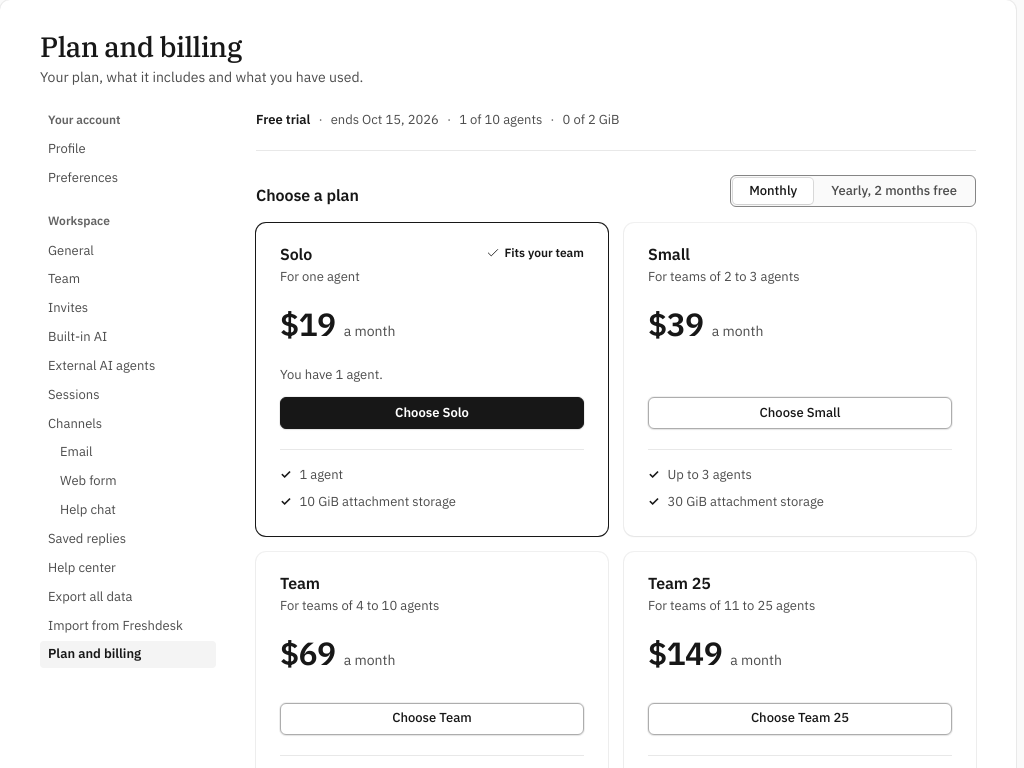
it: a checkout the payment provider refuses shows its reason and what to do, not the generic failure
The image size is (1024, 768).
Click the button with aria-label "team, $69 per month": click(432, 719) [280,703,584,735]
(page scrolled)
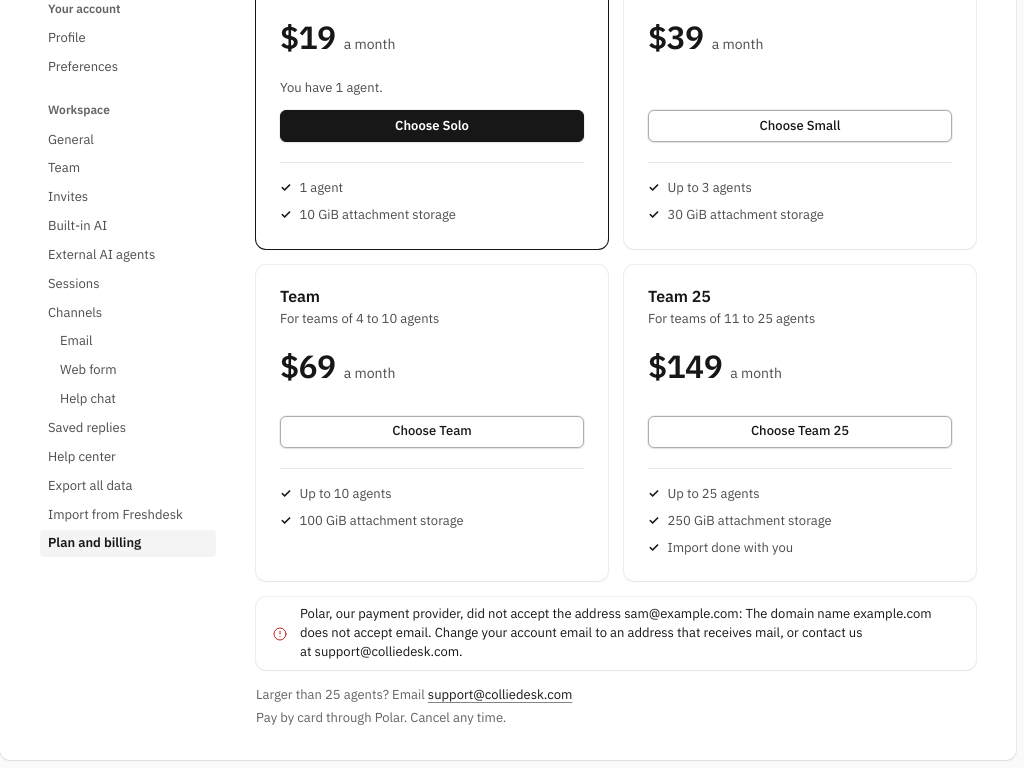
Check: the message does not show "The billing action failed", box [256,597,976,670]
Check: the message shows "did not accept the address sam@example.com", box [300,605,932,660]
Check: the message shows "Change your account email", box [300,605,932,660]
